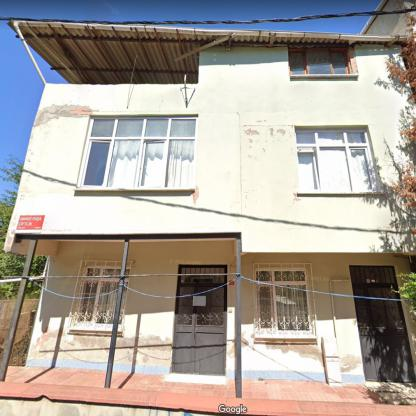door: (353, 285, 413, 381), (174, 285, 226, 375)
window: (80, 117, 198, 188), (296, 130, 378, 192), (256, 269, 312, 334), (74, 267, 130, 329), (290, 49, 349, 74), (350, 267, 396, 283), (180, 267, 226, 283)
